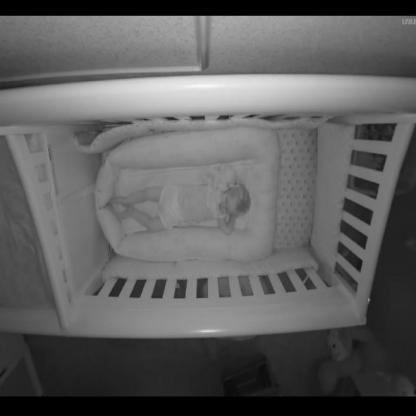baby: (112, 164, 250, 236)
